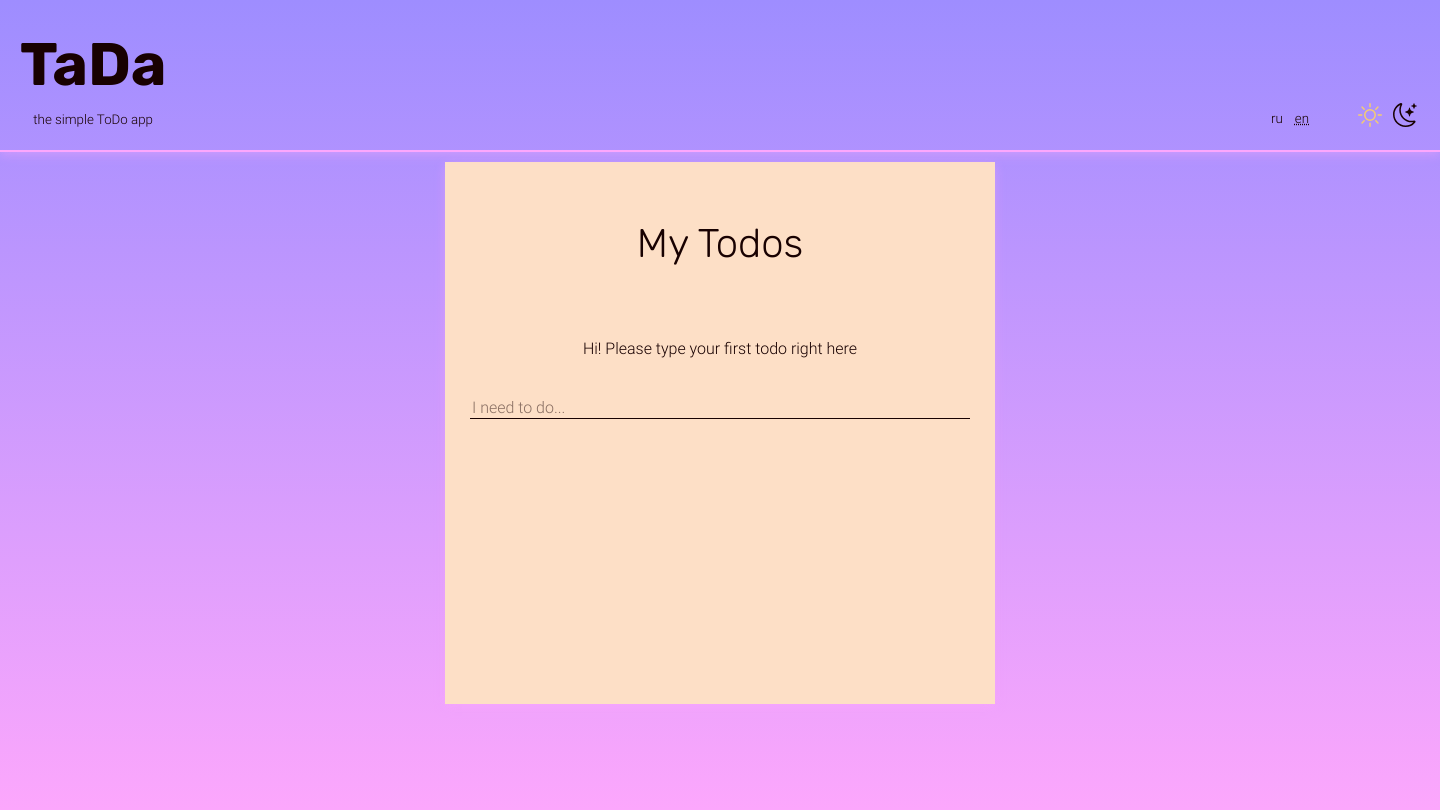
it: Core functionality › delete todo
Type "something" into the field with test id "addTodo".
click(720, 408); type("something")  # box [470,397,970,419]
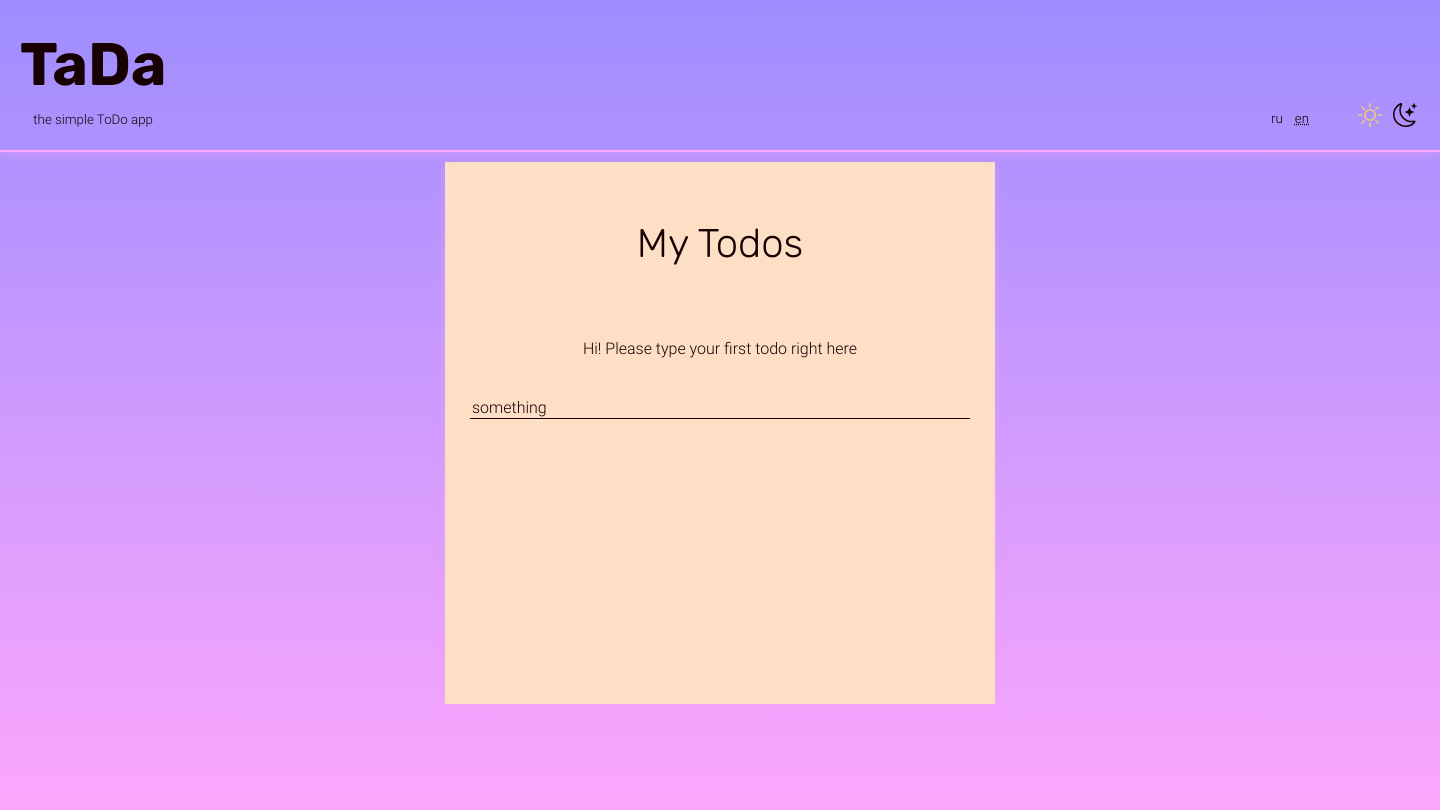
Submit the form from the field with test id "addTodo", box [470,397,970,419]
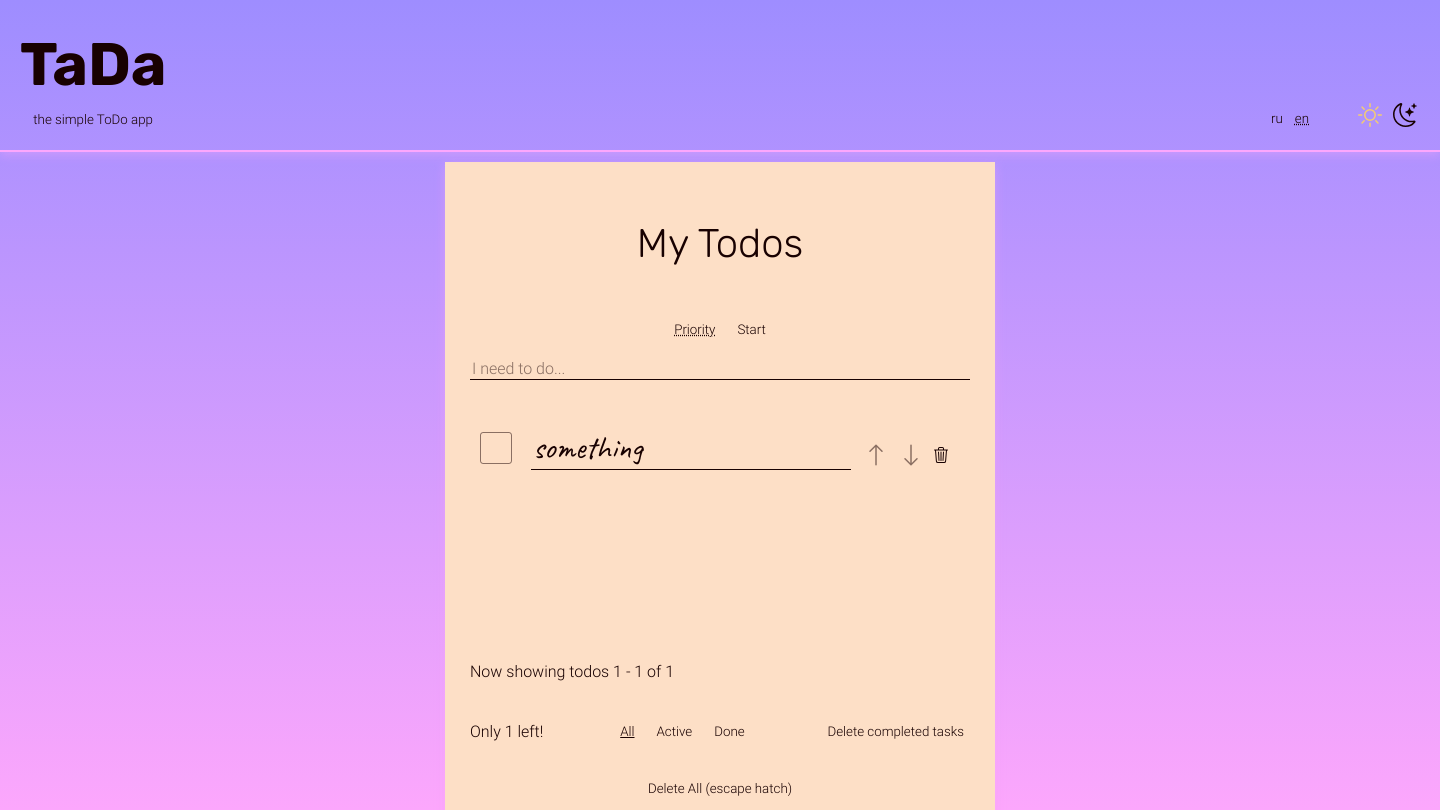
Type "something else" into the field with test id "addTodo".
click(720, 369); type("something else")  # box [470,358,970,380]
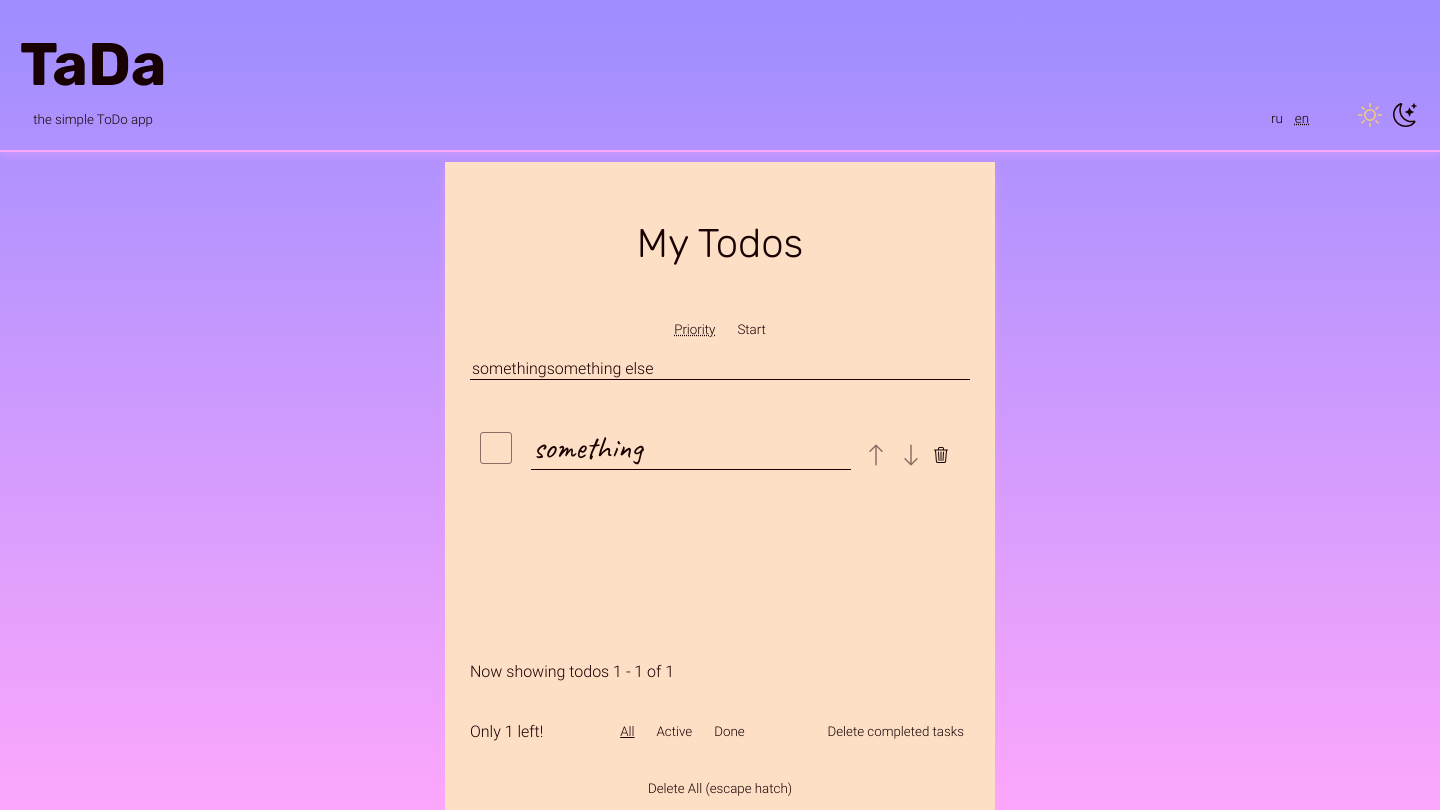
Submit the form from the field with test id "addTodo", box [470,358,970,380]
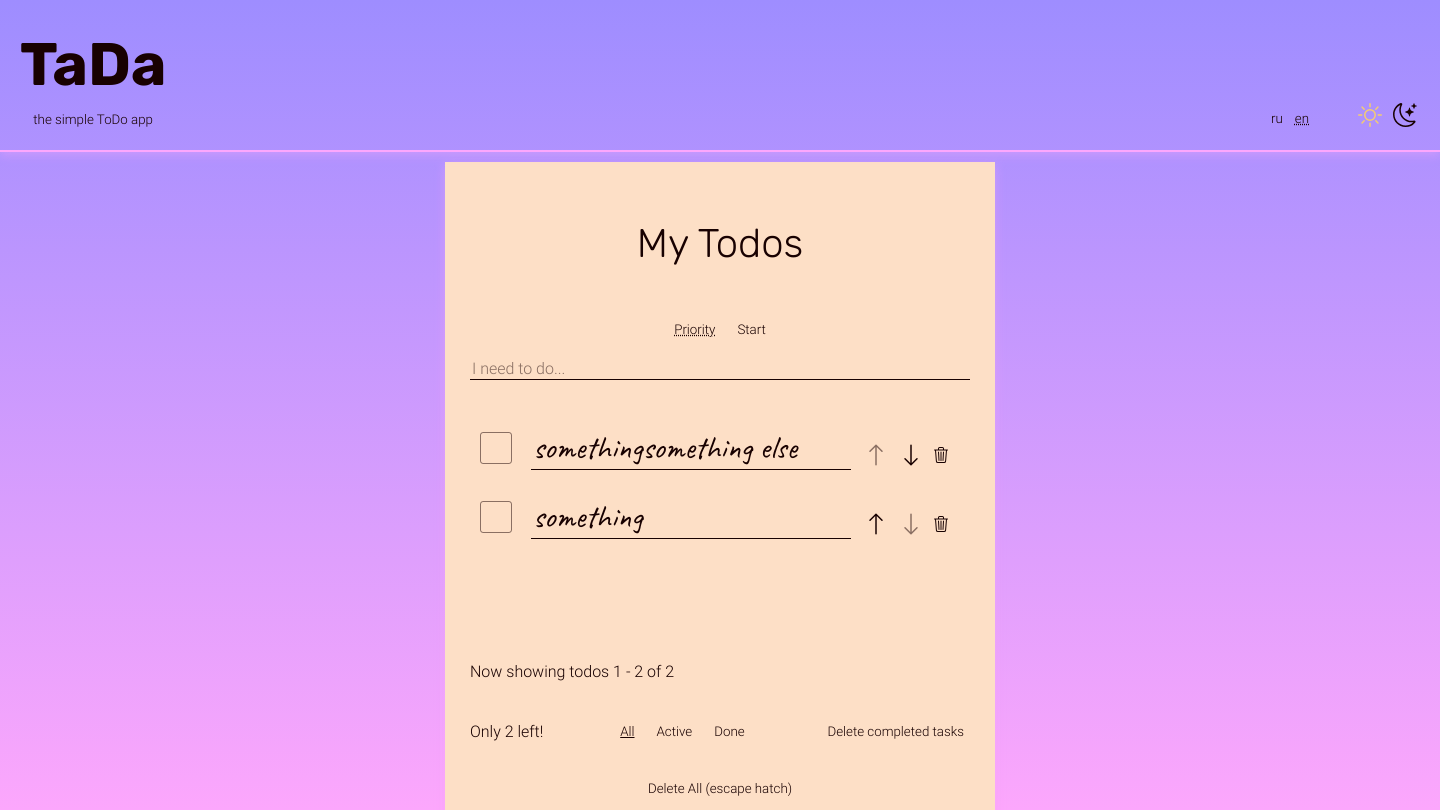
Click the 1st button with test id "deleteTodo".
click(941, 455)  # box [931,440,951,470]
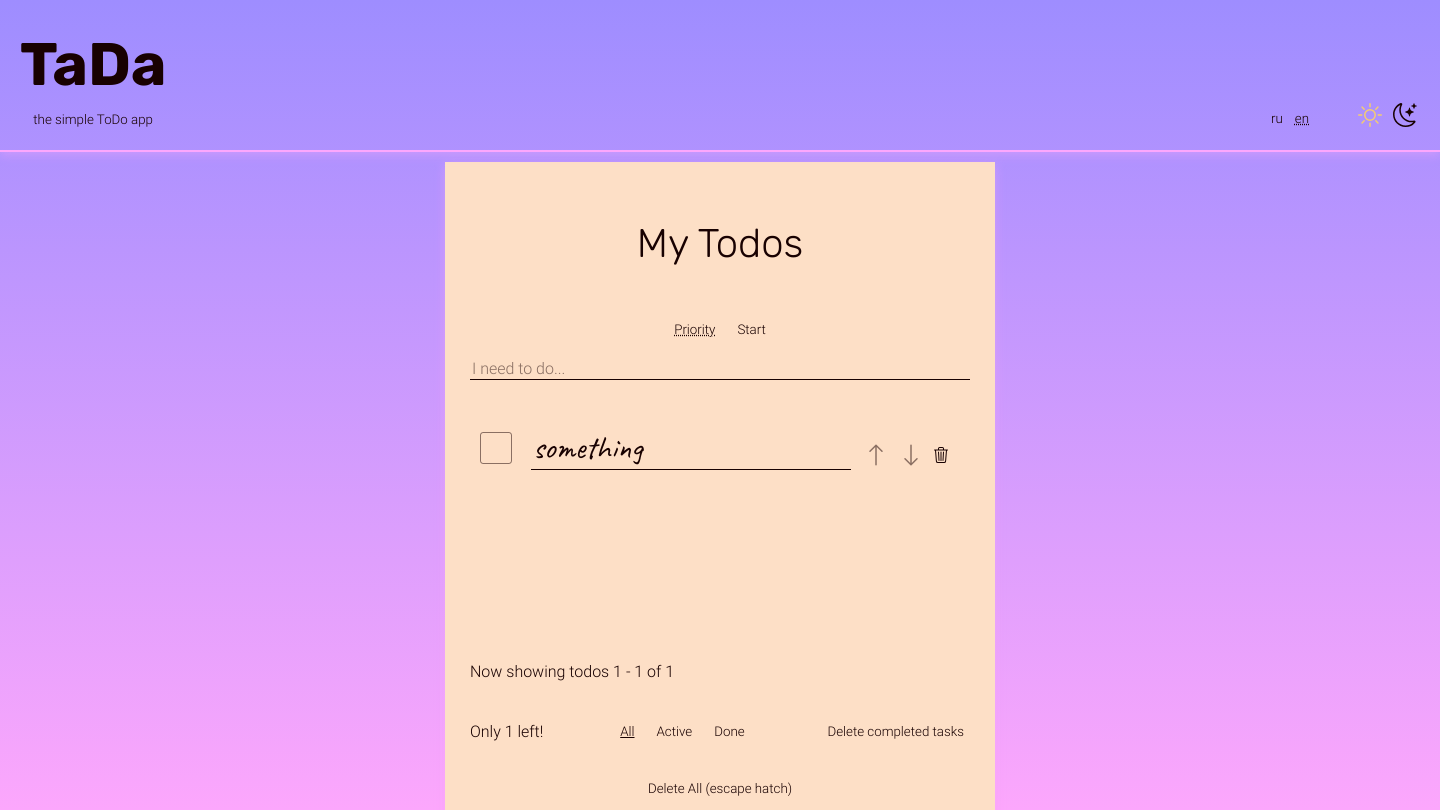
Expected: the number of list items with test id "listItem" is 1, [480,426,960,475]
